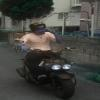motorcycles: (20, 54, 82, 100)
